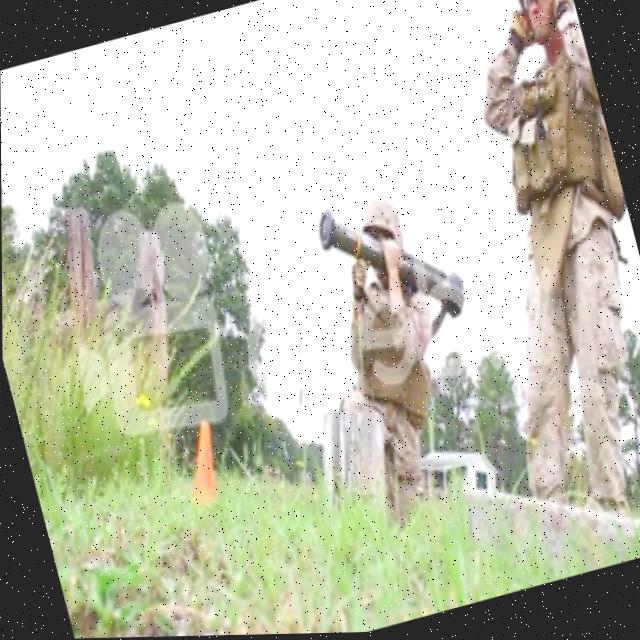rocket: (300, 177, 482, 351)
